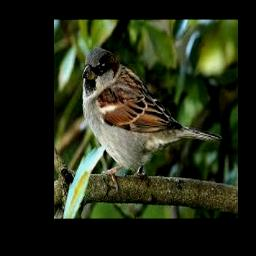Sparrow: (83, 47, 222, 189)
